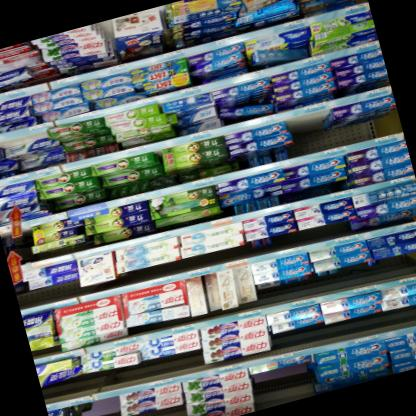empty_space: (287, 111, 331, 156), (88, 397, 118, 416)
